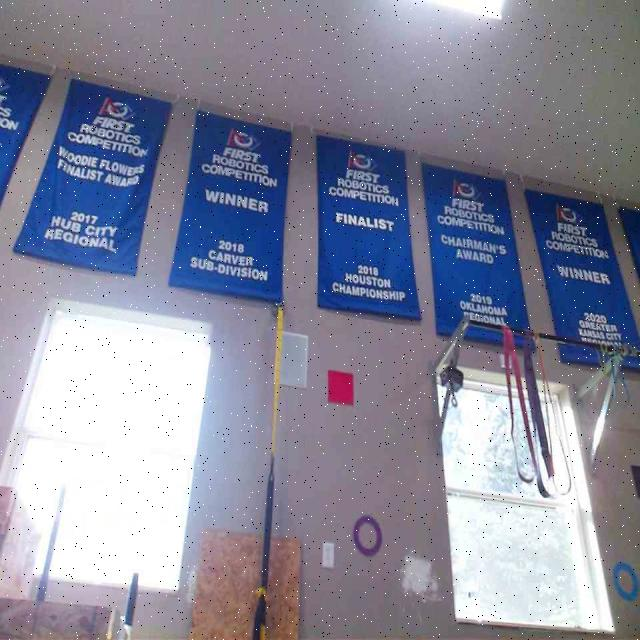ring_blue: (612, 561, 638, 599)
ring_purple: (351, 514, 382, 556)
square_red: (327, 369, 353, 404)
